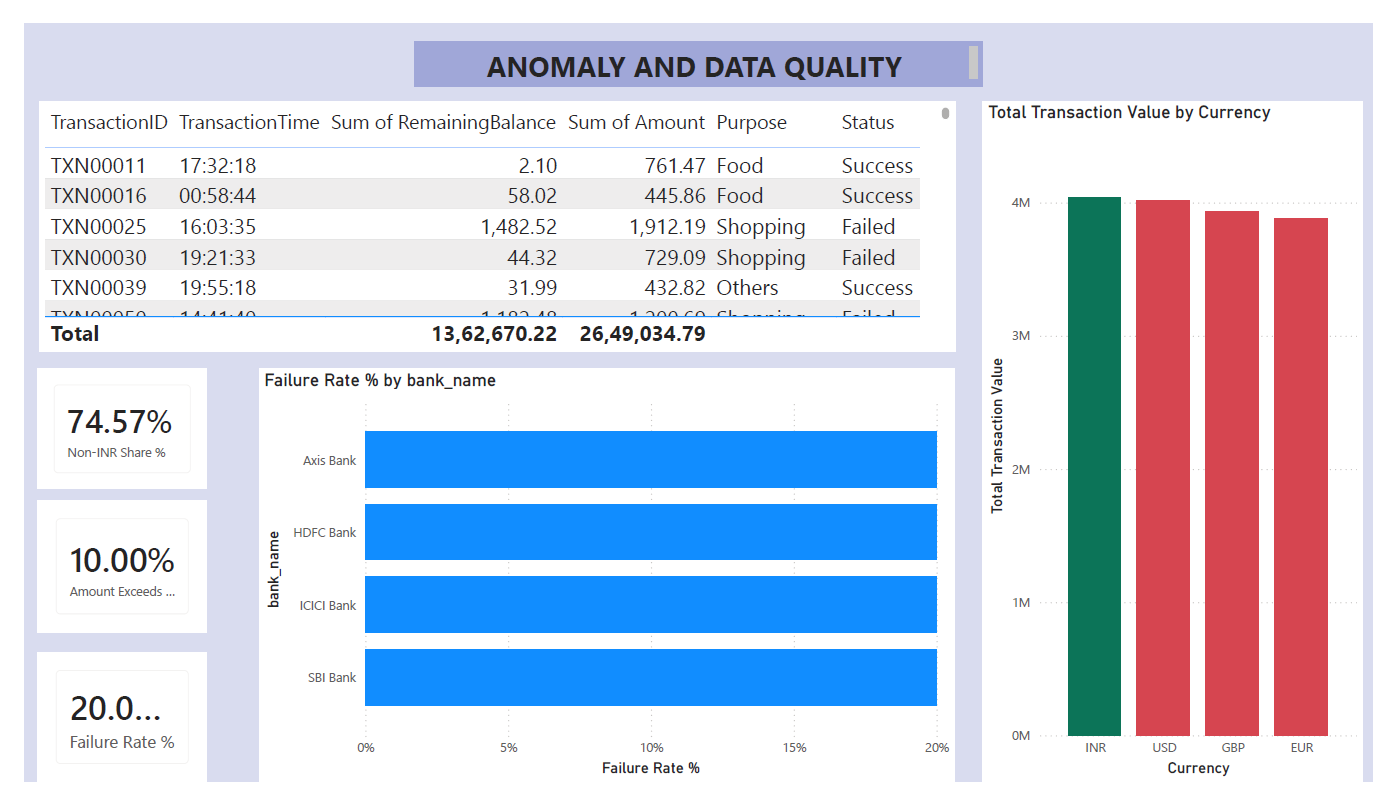

This screenshot's page, from the dashboard's own definition file:
{"tool":"powerbi","page":{"name":"Page 3","canvas":[1280,720],"ordinal":2},"visuals":[{"type":"textbox","box":[370,16.7,540,43.3],"z":0},{"type":"cardVisual","fields":{"Data":["fact_transactions.Non-INR Share %"]},"box":[13.3,328.3,160,113.3],"z":1000},{"type":"cardVisual","fields":{"Data":["fact_transactions.Failure Rate %"]},"box":[13.3,596.7,160,123.3],"z":2000},{"type":"cardVisual","fields":{"Data":["fact_transactions.Amount Exceeds Balance %"]},"box":[13.3,453.3,160,125],"z":3000},{"type":"tableEx","fields":{"Values":["fact_transactions.TransactionID","fact_transactions.TransactionTime.Variation.Date Hierarchy.Year","Sum(fact_transactions.RemainingBalance)","Sum(fact_transactions.Amount)","fact_transactions.Purpose","fact_transactions.Status"]},"box":[14,74,870,238],"z":4000},{"type":"clusteredBarChart","fields":{"Category":["dim_bank.bank_name"],"Y":["fact_transactions.Failure Rate %"]},"box":[223.3,328.3,660,391.7],"z":5000},{"type":"columnChart","fields":{"Category":["fact_transactions.Currency"],"Y":["fact_transactions.Total Transaction Value"]},"box":[910,74,360,646],"z":6000}]}

Visuals, with their boxes in screenshot pixels (x1, y1, x2, y2), scaled from the page's 1280x720 canvas onto the 1397x802 screenshot:
textbox: 404/19/993/67
cardVisual - fact_transactions.Non-INR Share %: 15/366/189/492
cardVisual - fact_transactions.Failure Rate %: 15/665/189/801
cardVisual - fact_transactions.Amount Exceeds Balance %: 15/505/189/644
tableEx - fact_transactions.TransactionID x fact_transactions.TransactionTime.Variation.Date Hierarchy.Year: 15/82/965/348
clusteredBarChart - dim_bank.bank_name x fact_transactions.Failure Rate %: 244/366/964/801
columnChart - fact_transactions.Currency x fact_transactions.Total Transaction Value: 993/82/1386/801
